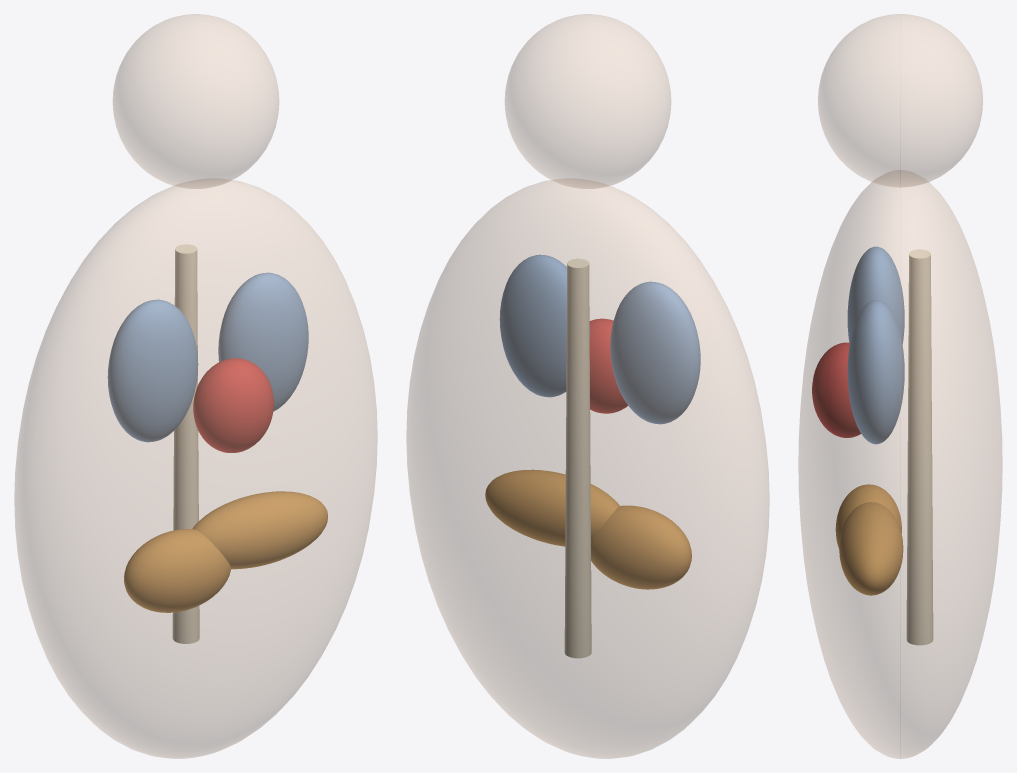
File: Anatomy Study Model_embedded.gltf
3 views of the same model, side by side, from view 1: azimuth 30°, elevation 25°; view 2: azimuth 150°, elevation 25°; view 3: azimuth 270°, elevation 25° (orthographic).
Visible parts, largest first — view 1: torso_reference, head_reference, left_lung, right_lung, liver, stomach, heart, spine; view 2: torso_reference, head_reference, left_lung, spine, right_lung, stomach, liver, heart; view 3: torso_reference, head_reference, spine, right_lung, liver, left_lung, heart, stomach.
Part boxes in pixels (left/top/right/bottom): torso_reference: left=14, top=179, right=377, bottom=758; head_reference: left=113, top=14, right=278, bottom=188; left_lung: left=107, top=299, right=198, bottom=442; right_lung: left=218, top=272, right=308, bottom=411; liver: left=192, top=491, right=327, bottom=569; stomach: left=124, top=529, right=231, bottom=612; heart: left=193, top=358, right=273, bottom=452; spine: left=172, top=244, right=199, bottom=643; torso_reference: left=406, top=179, right=769, bottom=758; head_reference: left=505, top=14, right=670, bottom=188; left_lung: left=610, top=281, right=700, bottom=424; spine: left=564, top=258, right=591, bottom=658; right_lung: left=499, top=254, right=590, bottom=397; stomach: left=591, top=505, right=691, bottom=589; liver: left=485, top=469, right=619, bottom=546; heart: left=589, top=318, right=627, bottom=413; torso_reference: left=798, top=170, right=1002, bottom=758; head_reference: left=818, top=14, right=982, bottom=187; spine: left=906, top=249, right=933, bottom=645; right_lung: left=847, top=300, right=904, bottom=444; liver: left=839, top=502, right=903, bottom=595; left_lung: left=847, top=246, right=904, bottom=343; heart: left=812, top=342, right=860, bottom=437; stomach: left=835, top=484, right=901, bottom=548.
Size of the model in its own units: 1.64 by 3.29 by 0.84.
